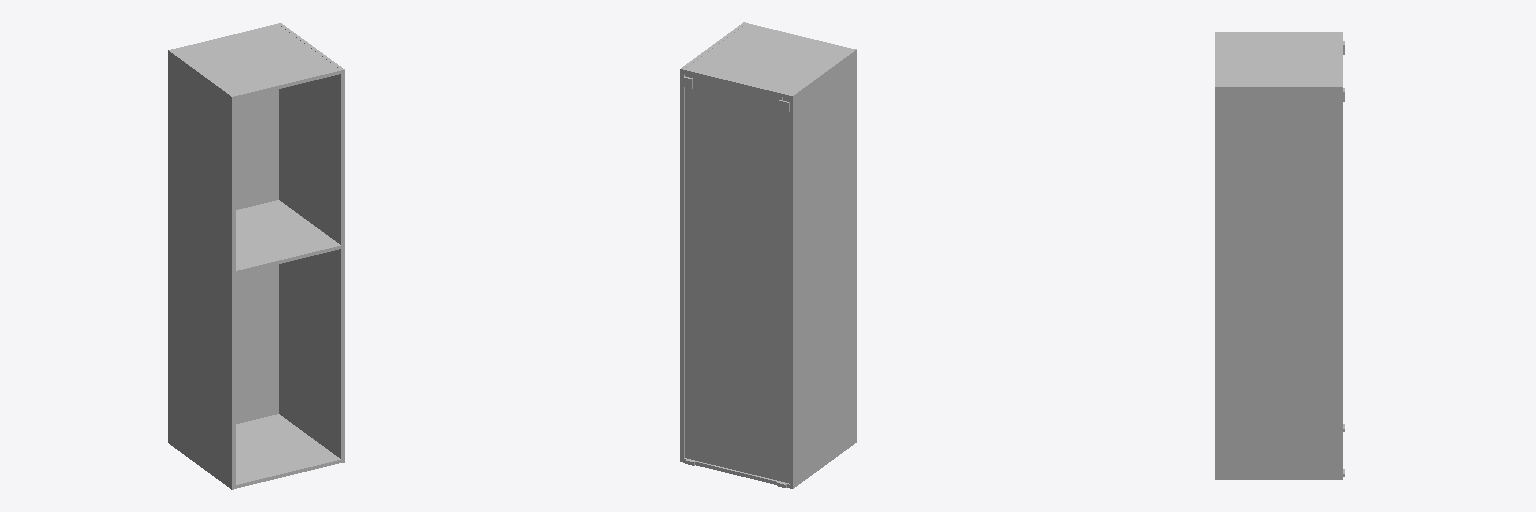
The model's file is IKEA.ART.60212565.obj.
The picture shows the model from 3 angles: view 1: azimuth 30°, elevation 25°; view 2: azimuth 150°, elevation 25°; view 3: azimuth 270°, elevation 25°; orthographic projection.
Parts seen in each view (by area): view 1: model_model.083; view 2: model_model.083; view 3: model_model.083.
Part boxes in pixels (left/top/right/bottom): model_model.083: left=168, top=23, right=344, bottom=489; model_model.083: left=680, top=22, right=856, bottom=488; model_model.083: left=1215, top=32, right=1344, bottom=479.
Size of the model in its own units: 0.6 by 2 by 0.6.